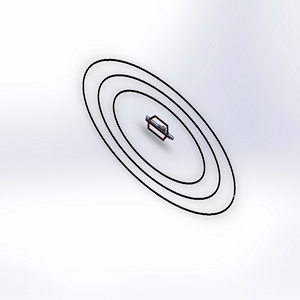circle: (70, 49, 244, 225)
submarine: (139, 112, 176, 148)
